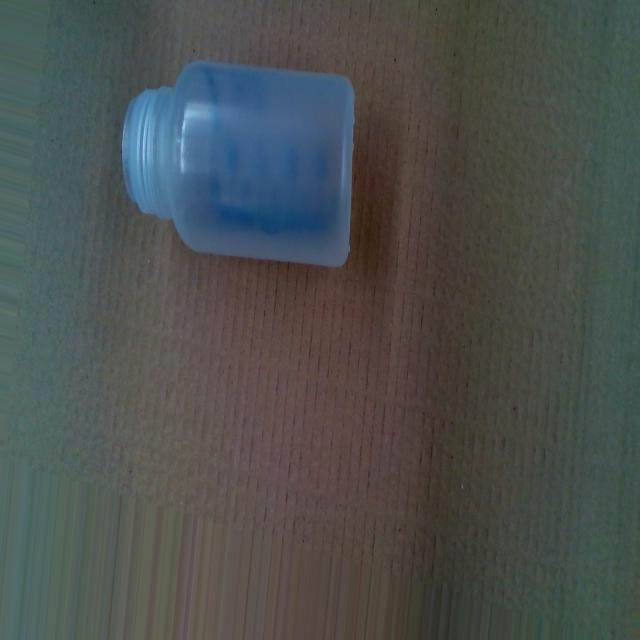bottle: (118, 54, 362, 281)
